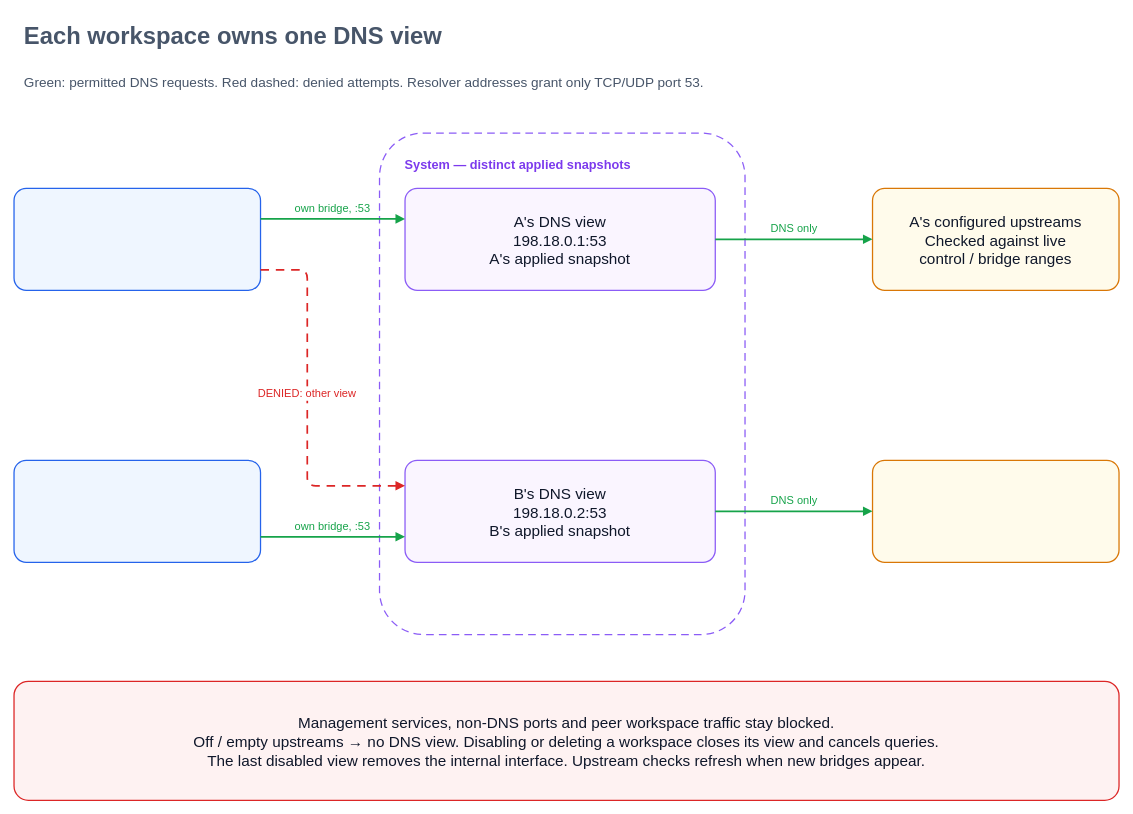
This 1133x814 diagram has some shape labels left out. Here are the shapes that lost their labels. From the top down, the centre of each, then its label:
point 137,239: Workspace A — Local LAN Applied upstreams: LAN + secondary
point 137,511: Workspace B — Private Applied upstreams: its own list
point 995,511: B's configured upstreams Independent ordered fallback
